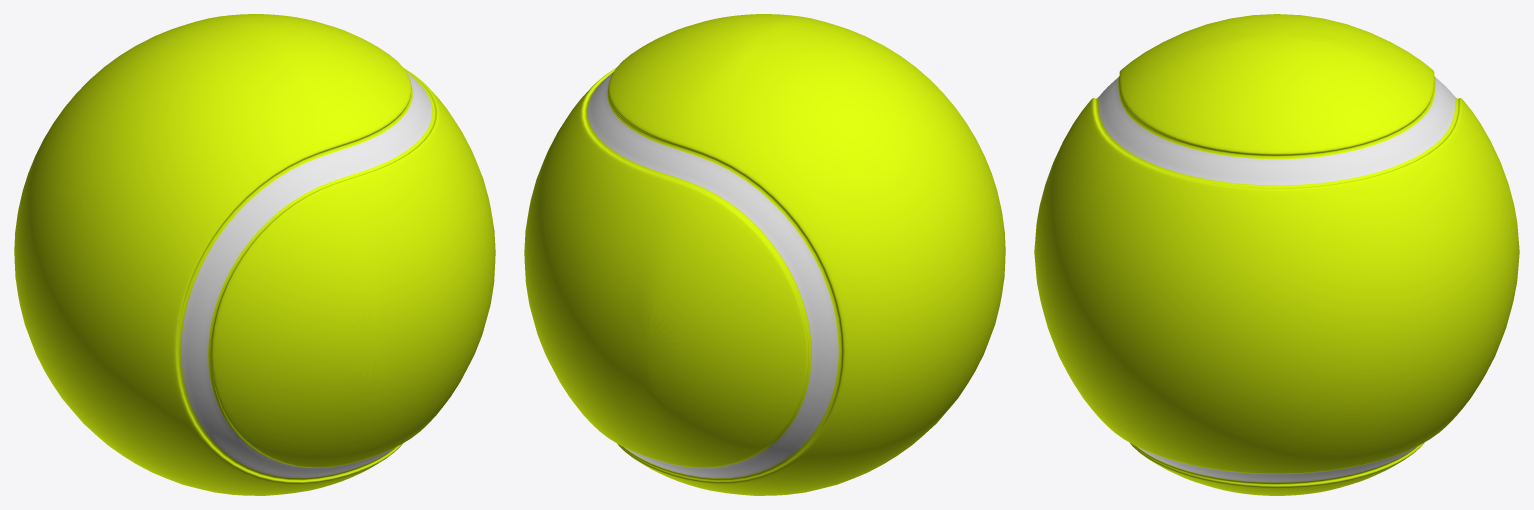
File: Tennis_Ball.fbx
The picture shows the model from 3 angles, left to right: view 1: azimuth 30°, elevation 25°; view 2: azimuth 150°, elevation 25°; view 3: azimuth 270°, elevation 25°; orthographic projection.
Visible parts, largest first — view 1: Sphere; view 2: Sphere; view 3: Sphere.
Boxes of the visible parts, bbox=[...] form: Sphere: bbox=[14, 14, 495, 495]; Sphere: bbox=[524, 14, 1005, 495]; Sphere: bbox=[1034, 14, 1519, 495].
Bounding box in the file's own units: 7.77 × 7.84 × 7.84.
